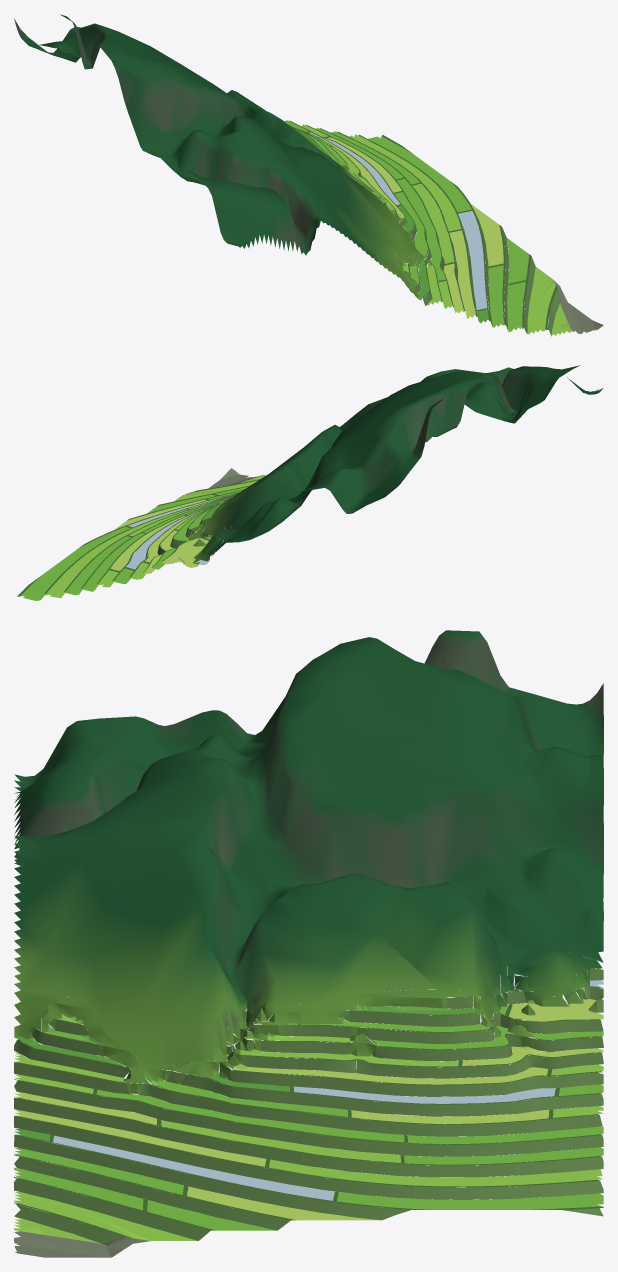
Rendered from payo_land_x0_y1_lod2.glb.
The picture shows the model from 3 angles, top to bottom: view 1: azimuth 30°, elevation 25°; view 2: azimuth 150°, elevation 25°; view 3: azimuth 270°, elevation 25°; orthographic projection. The views are drawn at different scales.
Visible parts, largest first — view 1: payo_land_x0_y1; view 2: payo_land_x0_y1; view 3: payo_land_x0_y1.
Part boxes in pixels (<box>): payo_land_x0_y1: <box>14,14,603,336</box>; payo_land_x0_y1: <box>17,365,602,600</box>; payo_land_x0_y1: <box>14,630,603,1257</box>.
Bounding box in the file's own units: 256 × 184 × 258.
